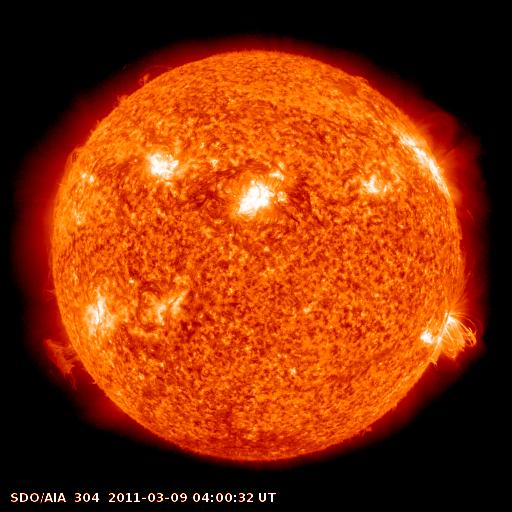prominence: (31, 142, 88, 310), (83, 52, 183, 140), (29, 326, 105, 397)
